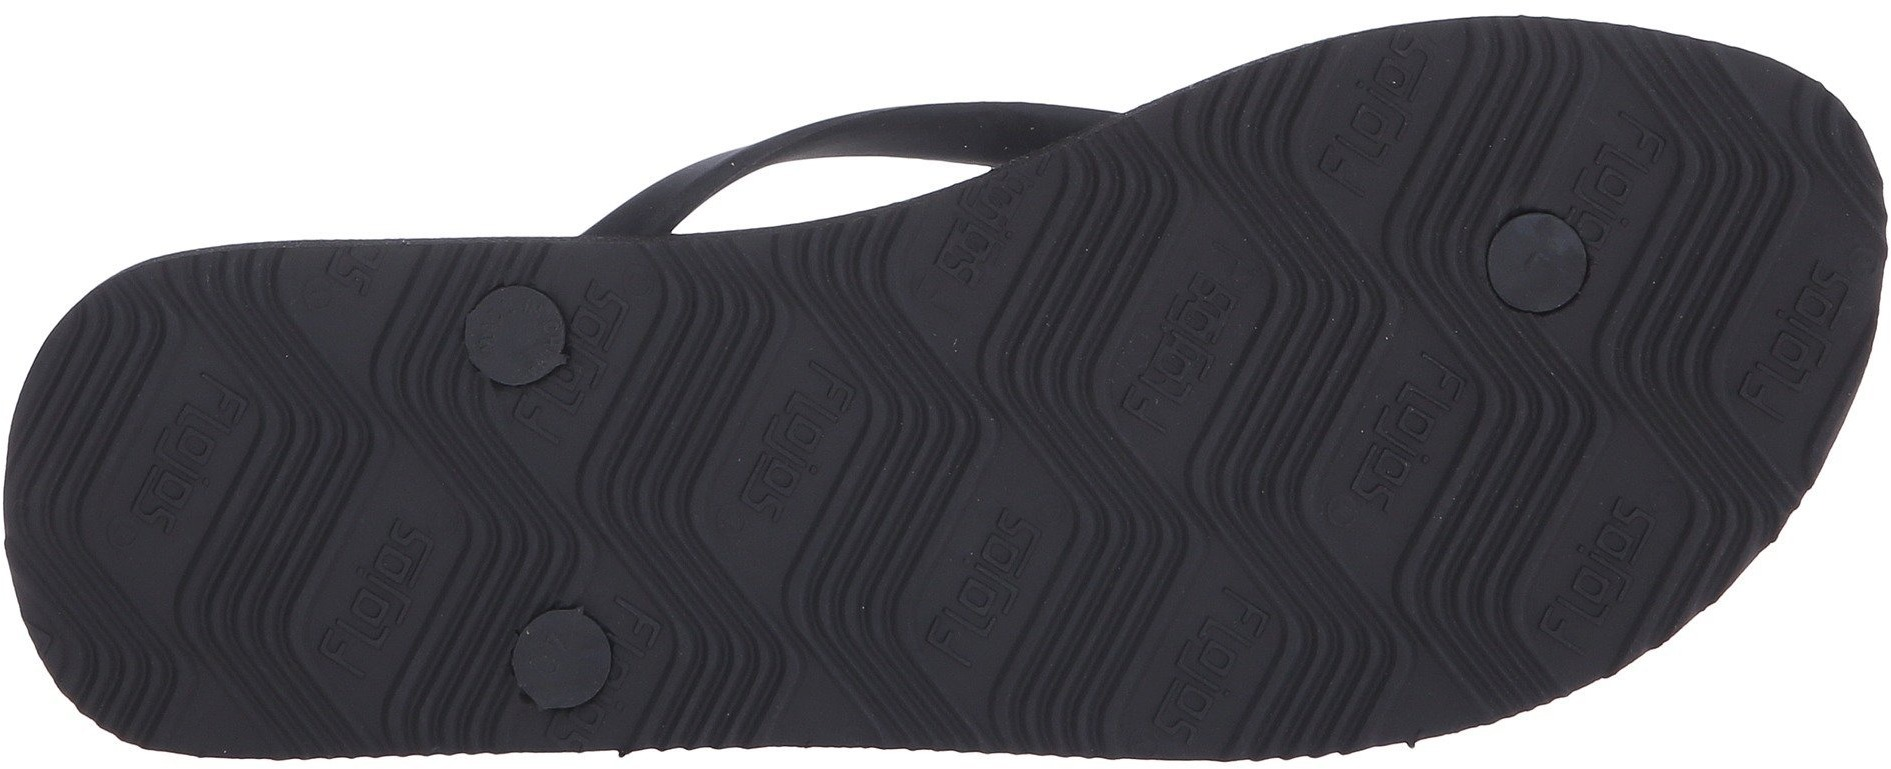chevron: (663, 527, 863, 739), (1293, 528, 1489, 705), (265, 312, 452, 497), (1072, 432, 1259, 606), (75, 538, 262, 708), (1266, 186, 1448, 350), (1482, 307, 1652, 476), (854, 290, 1030, 453), (473, 448, 617, 607), (710, 237, 820, 354), (1135, 125, 1239, 243)
circle: (1466, 195, 1640, 353), (452, 276, 575, 392), (507, 614, 617, 722)
line: (1466, 195, 1640, 353), (730, 359, 872, 523)
text: (1466, 195, 1640, 353), (730, 359, 872, 523), (339, 528, 443, 620), (1384, 362, 1482, 458), (1113, 341, 1213, 432), (1548, 544, 1643, 636), (737, 425, 829, 516), (941, 193, 1034, 280), (929, 571, 1018, 661), (1154, 272, 1245, 358), (1348, 422, 1433, 510), (174, 362, 263, 445), (775, 354, 870, 433), (140, 441, 226, 524), (1319, 112, 1411, 188), (1363, 41, 1448, 122), (1592, 486, 1679, 565), (1596, 101, 1684, 177), (312, 622, 396, 702), (980, 492, 1060, 574), (1788, 256, 1864, 333), (1752, 325, 1829, 398), (579, 256, 652, 330), (320, 248, 381, 312)
